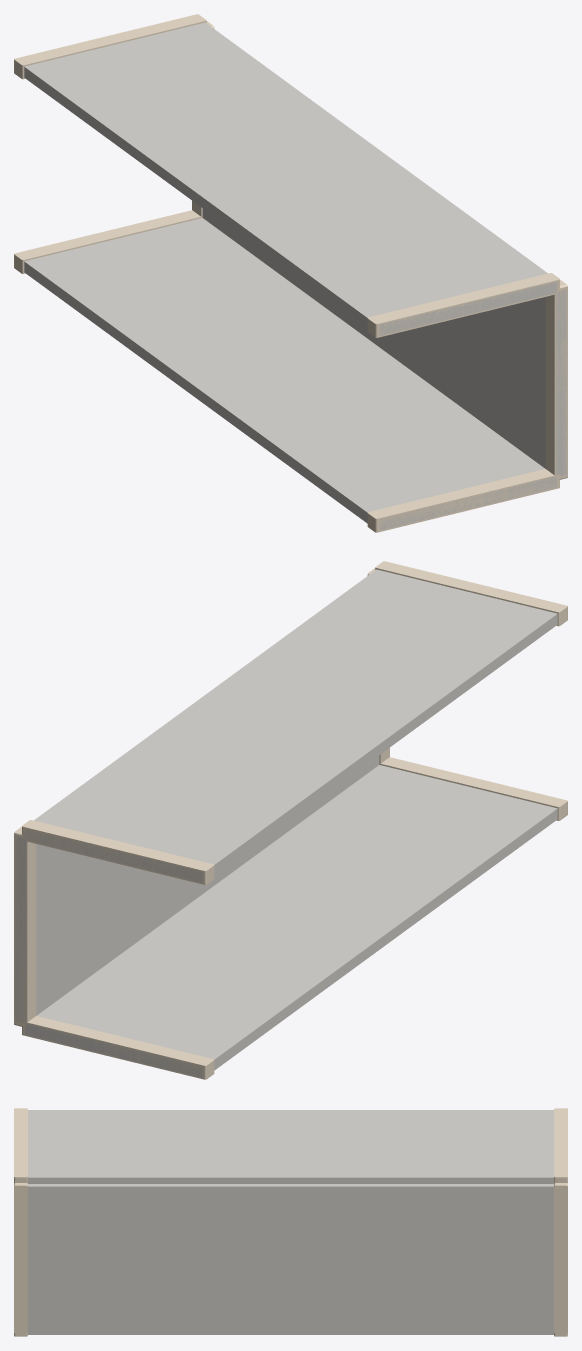
The model's file is screen_divider.glb.
The picture shows the model from 3 angles, top to bottom: view 1: azimuth 30°, elevation 25°; view 2: azimuth 150°, elevation 25°; view 3: azimuth 270°, elevation 25°; orthographic projection. The views are drawn at different scales.
Visible parts, largest first — view 1: panel_2, panel_0, panel_1, frame_0_1, frame_1_1, frame_2_1, frame_2_0, frame_0_0; view 2: panel_2, panel_0, panel_1, frame_2_0, frame_1_0, frame_0_0, frame_2_1, frame_0_1; view 3: panel_1, panel_2, frame_1_0, frame_1_1, panel_0, frame_2_0, frame_2_1.
Boxes of the visible parts, x1,y1,x2,y2 form: panel_2: [24, 22, 556, 335]; panel_0: [24, 218, 556, 530]; panel_1: [202, 208, 566, 476]; frame_0_1: [367, 469, 559, 532]; frame_1_1: [545, 279, 567, 479]; frame_2_1: [367, 273, 559, 337]; frame_2_0: [14, 14, 206, 79]; frame_0_0: [14, 210, 202, 273]; panel_2: [25, 569, 557, 882]; panel_0: [25, 765, 557, 1077]; panel_1: [15, 755, 379, 1023]; frame_2_0: [22, 820, 214, 884]; frame_1_0: [14, 826, 36, 1026]; frame_0_0: [22, 1016, 214, 1079]; frame_2_1: [375, 561, 567, 626]; frame_0_1: [379, 757, 567, 820]; panel_1: [28, 1184, 553, 1331]; panel_2: [28, 1110, 553, 1183]; frame_1_0: [554, 1183, 567, 1333]; frame_1_1: [14, 1183, 27, 1333]; panel_0: [28, 1331, 553, 1334]; frame_2_0: [554, 1108, 567, 1183]; frame_2_1: [14, 1108, 27, 1183].
Bounding box in the file's own units: 0.5503 × 0.5713 × 1.8.
